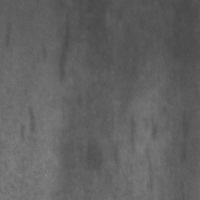inclusion: (137, 110, 164, 194), (53, 8, 78, 86), (171, 97, 193, 170), (23, 97, 40, 140)
